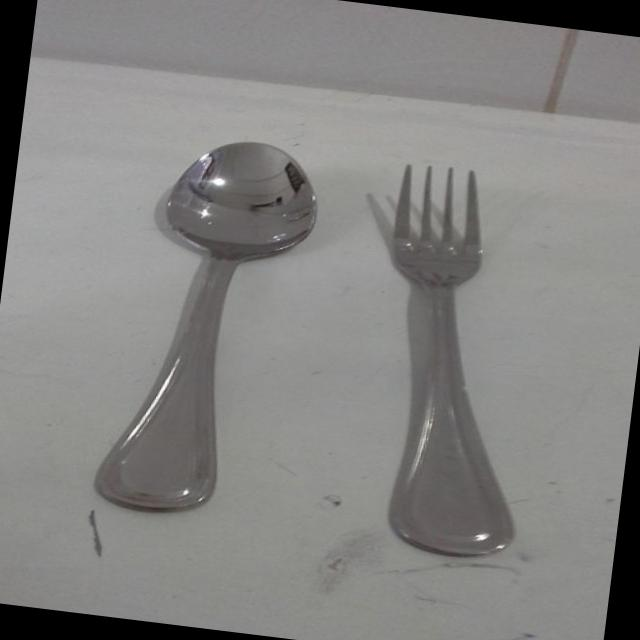fork: (380, 145, 543, 572)
spoon: (53, 118, 330, 536)
